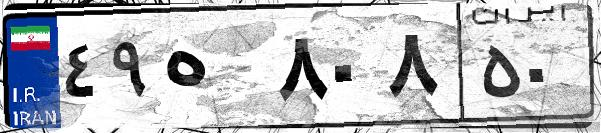0: (330, 28, 385, 110), (525, 38, 570, 115)
4: (57, 26, 110, 100)
5: (475, 38, 525, 113)
8: (270, 28, 330, 110), (385, 28, 445, 110)
9: (110, 28, 158, 98)
ه: (158, 20, 270, 120)
